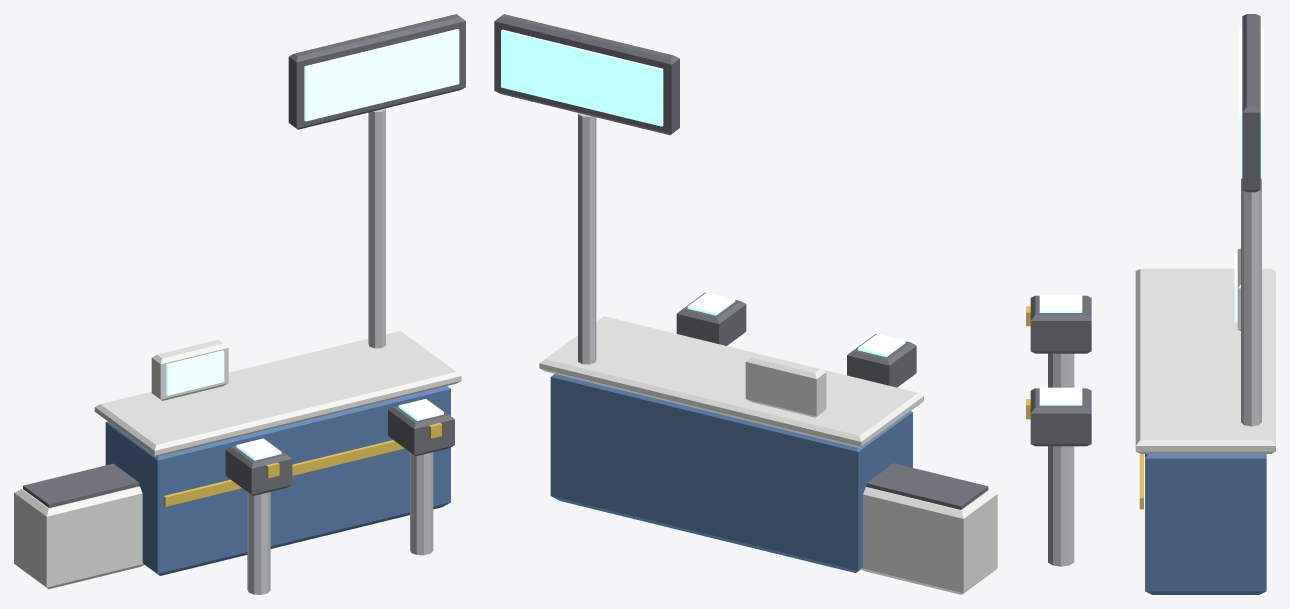
File: airport-terminal-and-ground-operations-gate-desk-b36323bf__26043.glb
The picture shows the model from 3 angles, left to right: view 1: azimuth 30°, elevation 25°; view 2: azimuth 150°, elevation 25°; view 3: azimuth 270°, elevation 25°; orthographic projection. The views are drawn at different scales.
Parts seen in each view (by area): view 1: gate-desk; view 2: gate-desk; view 3: gate-desk.
Part boxes in pixels (x1,y1,x2,y2): gate-desk: (14,14,465,594); gate-desk: (494,14,997,594); gate-desk: (1026,14,1275,594).
Size of the model in its own units: 3.95 by 3.78 by 1.64.
